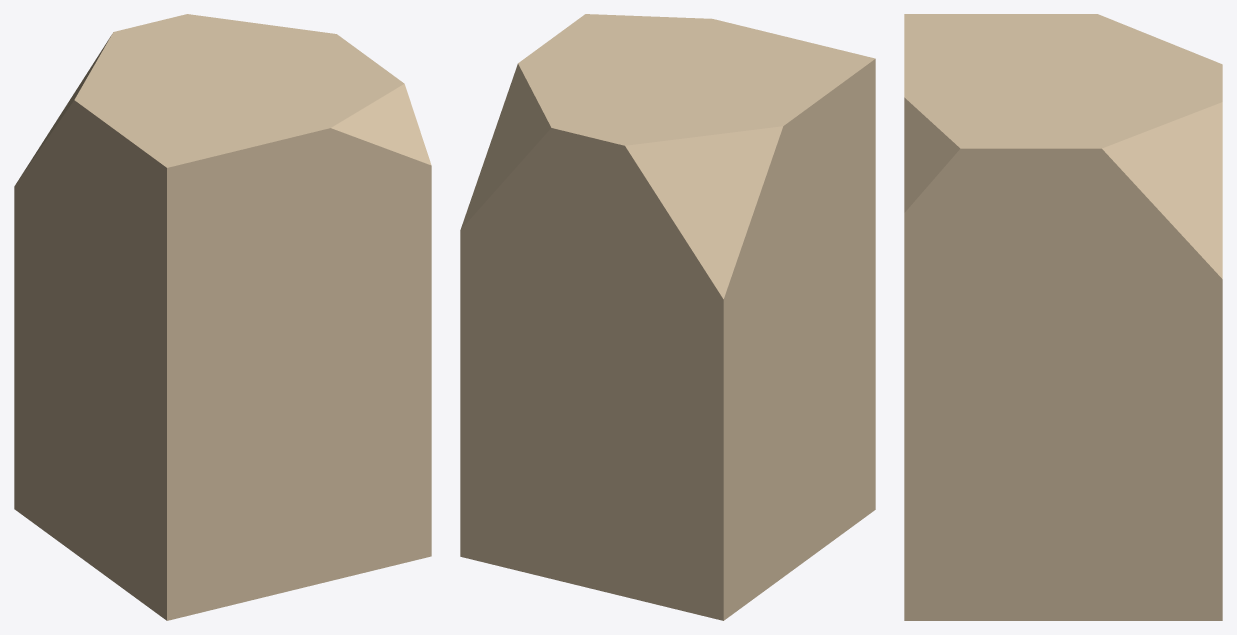
The model's file is SM_Env_Pebble_06.fbx.
3 renders of one model, left to right at view 1: azimuth 30°, elevation 25°; view 2: azimuth 150°, elevation 25°; view 3: azimuth 270°, elevation 25°, orthographic. The views are drawn at different scales.
Parts seen in each view (by area): view 1: SM_Env_Pebble_06; view 2: SM_Env_Pebble_06; view 3: SM_Env_Pebble_06.
Part boxes in pixels (box(x1,y1,x2,y2)): SM_Env_Pebble_06: box(14, 14, 431, 620); SM_Env_Pebble_06: box(460, 14, 875, 620); SM_Env_Pebble_06: box(904, 14, 1222, 620).
Bounding box in the file's own units: 0.00107 × 0.00175 × 0.00107.
1 material, 1 textured.
